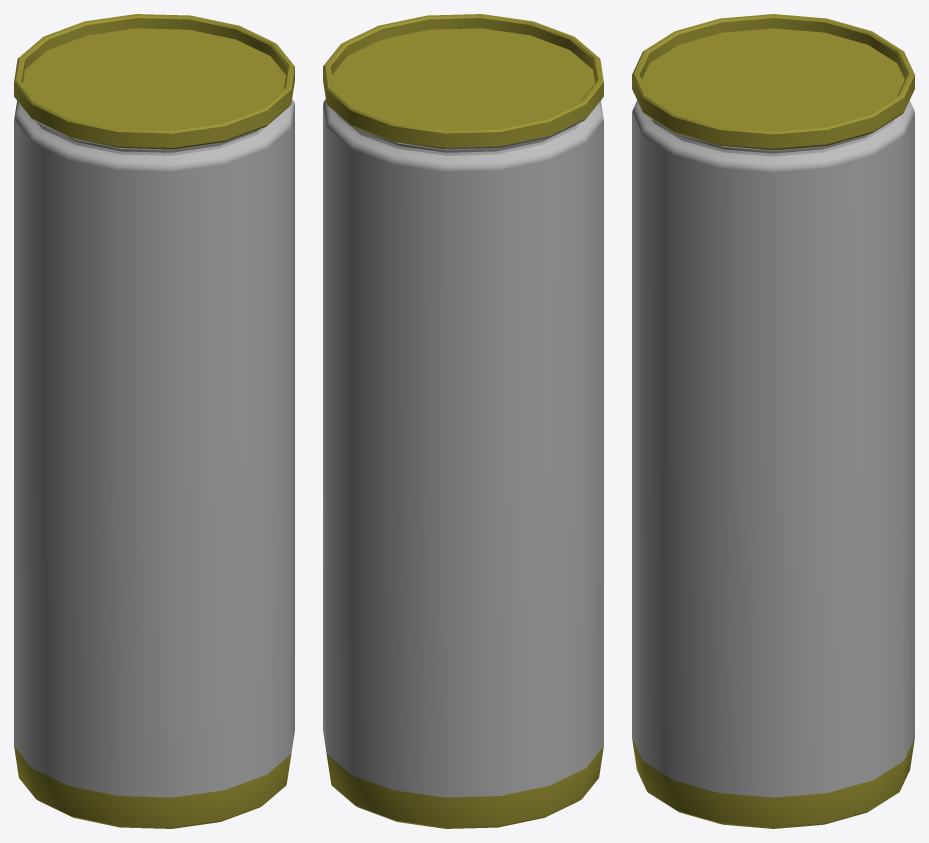
The model's file is kan.fbx.
3 renders of one model, left to right at view 1: azimuth 30°, elevation 25°; view 2: azimuth 150°, elevation 25°; view 3: azimuth 270°, elevation 25°, orthographic.
Visible parts, largest first — view 1: pCylinder1; view 2: pCylinder1; view 3: pCylinder1.
Boxes of the visible parts, x1=… form: pCylinder1: x1=14, y1=14, x2=294, y2=828; pCylinder1: x1=323, y1=14, x2=603, y2=828; pCylinder1: x1=632, y1=14, x2=914, y2=828.
Size of the model in its own units: 4.29 by 11.7 by 4.29.
